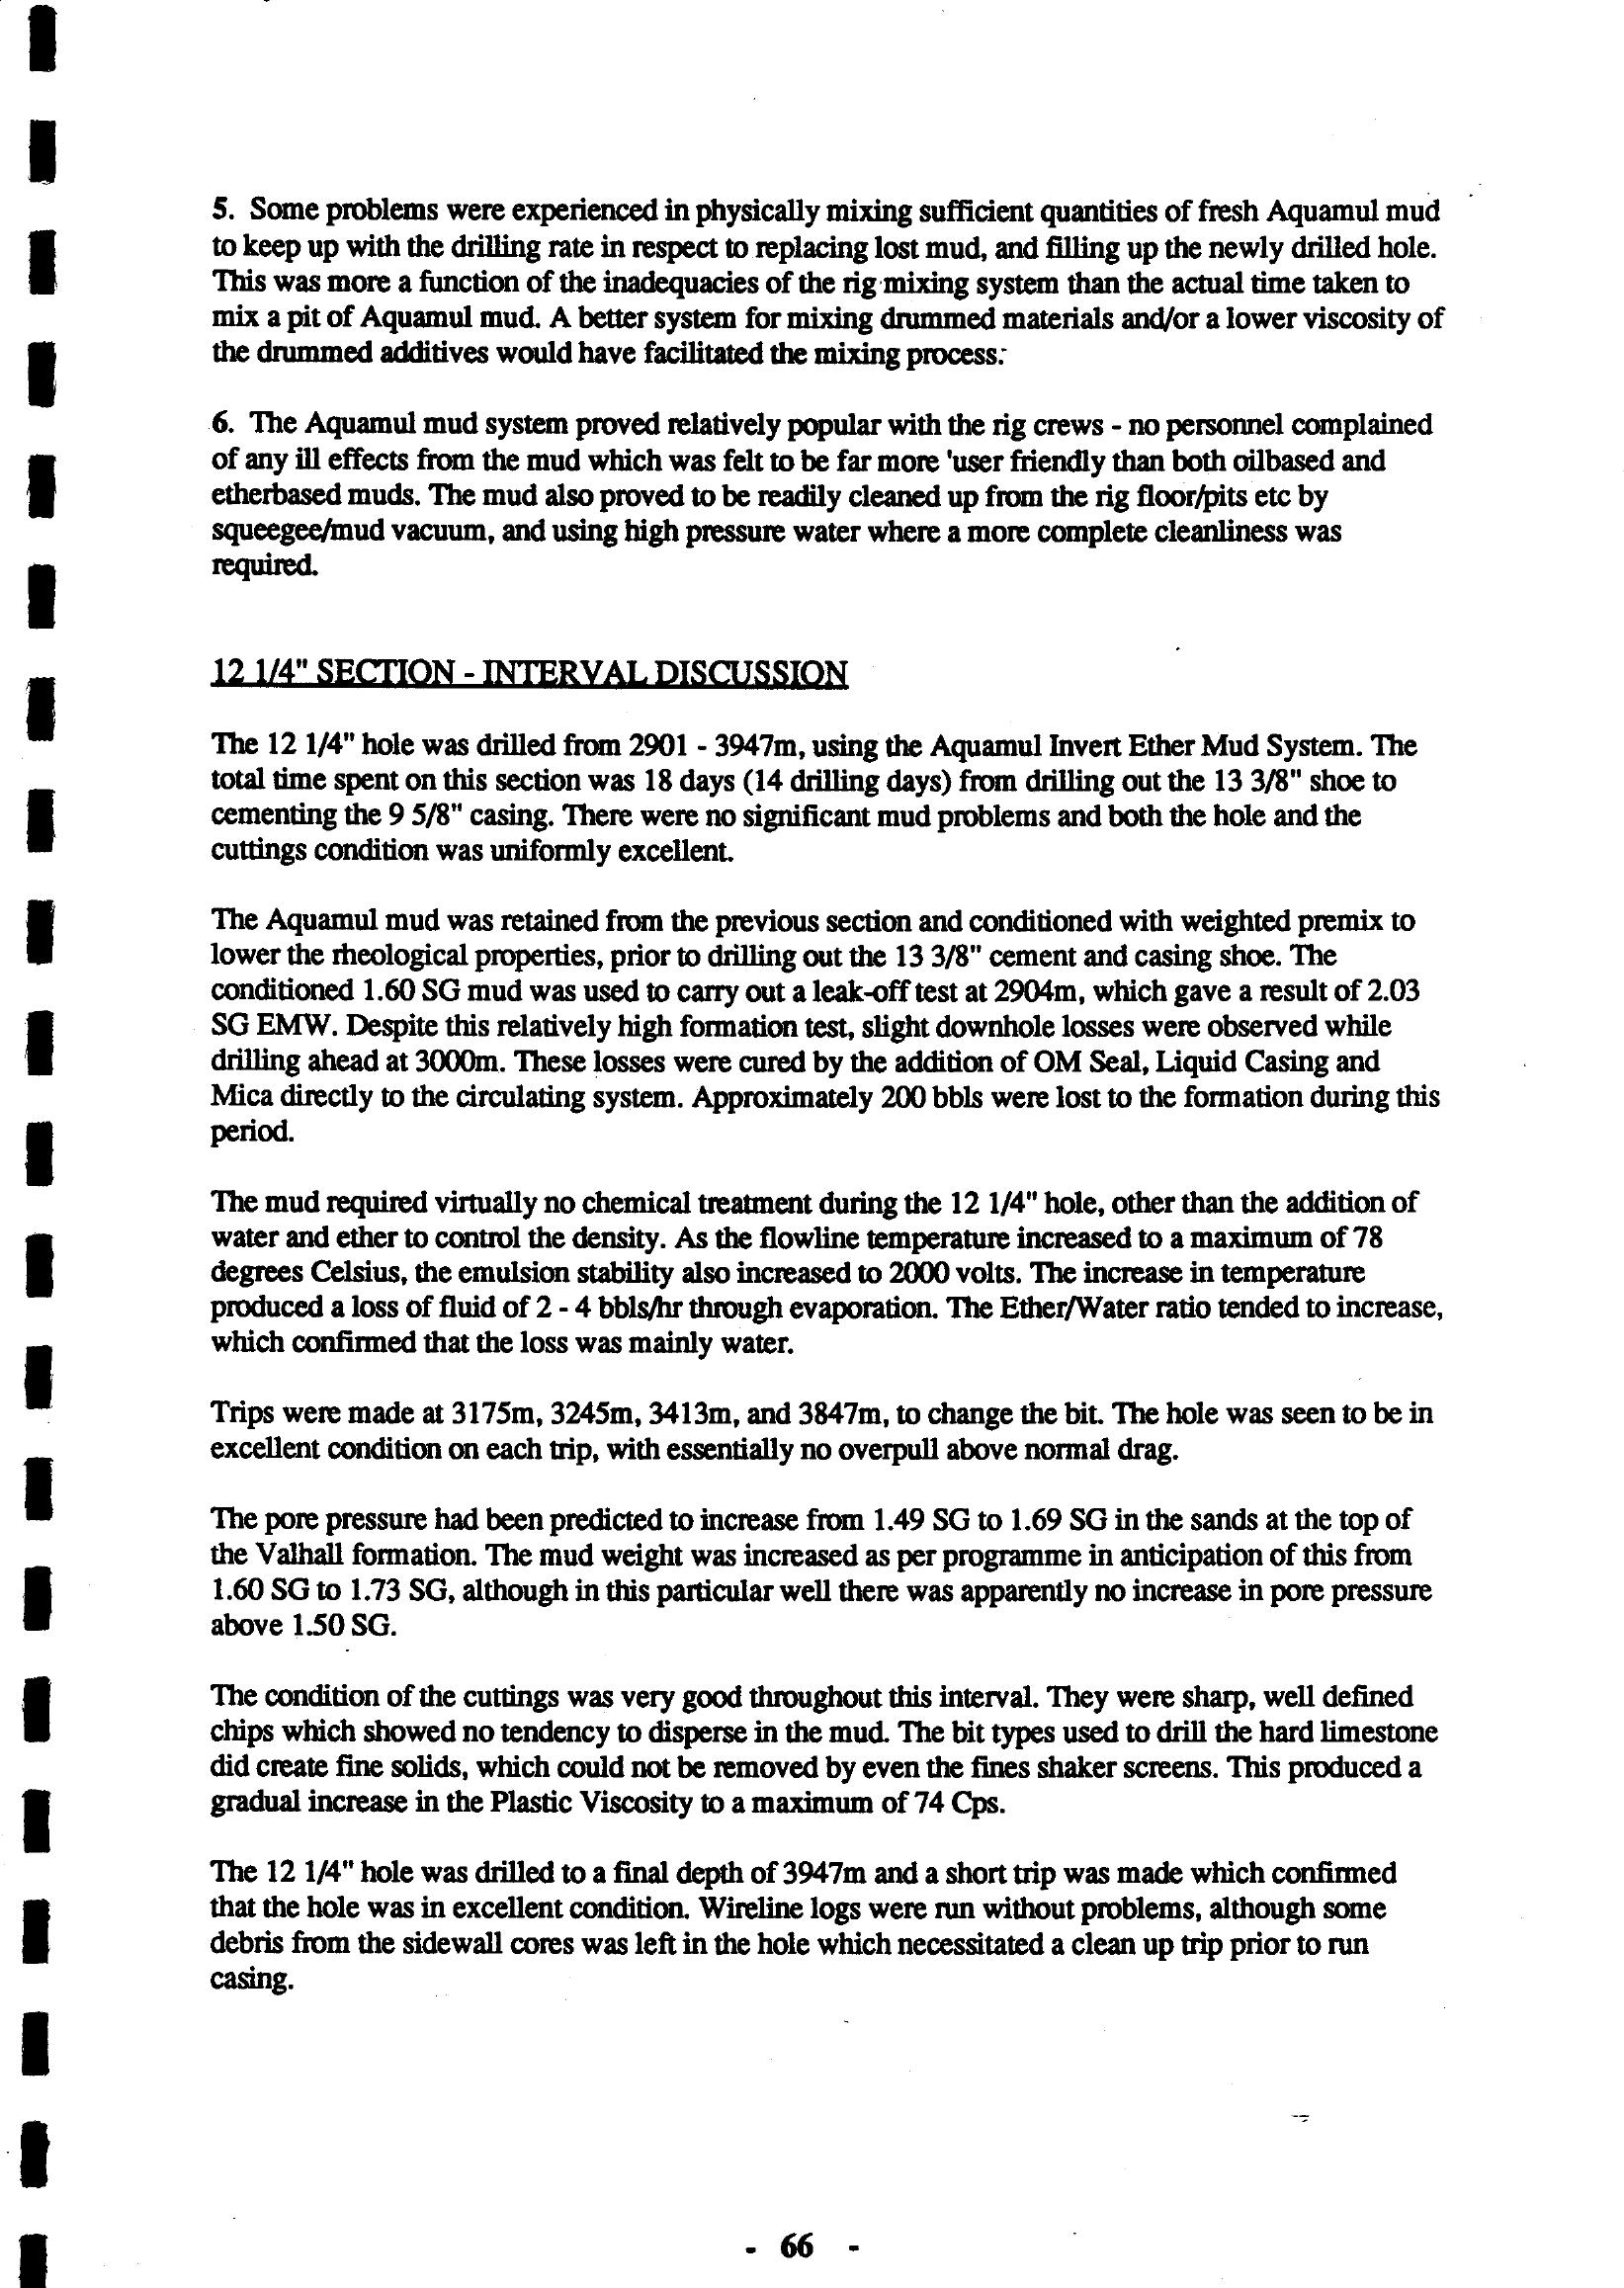text: (172, 158, 1459, 2053)
